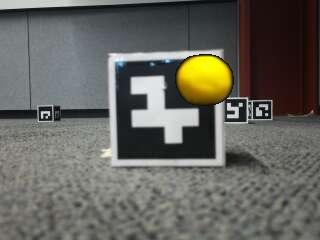lemon: (176, 56, 232, 105)
